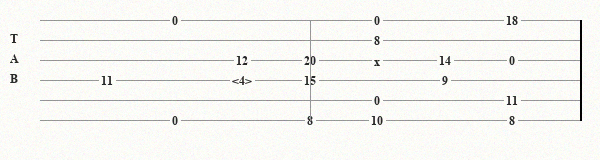0: (172, 14, 182, 27), (172, 114, 182, 127), (374, 14, 384, 27), (374, 94, 384, 107), (509, 54, 519, 67)
10: (371, 114, 387, 127)
11: (101, 74, 117, 87), (506, 94, 522, 107)
12: (236, 54, 252, 67)
14: (439, 54, 455, 67)
15: (304, 74, 320, 87)
18: (506, 14, 522, 27)
20: (304, 54, 320, 67)
8: (307, 114, 317, 127), (374, 34, 384, 47), (509, 114, 519, 127)
9: (442, 74, 452, 87)
harmonic: (232, 74, 256, 87)
x: (374, 55, 384, 65)
